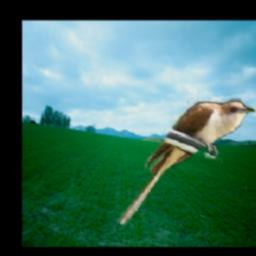Cuckoo: (117, 98, 255, 226)
